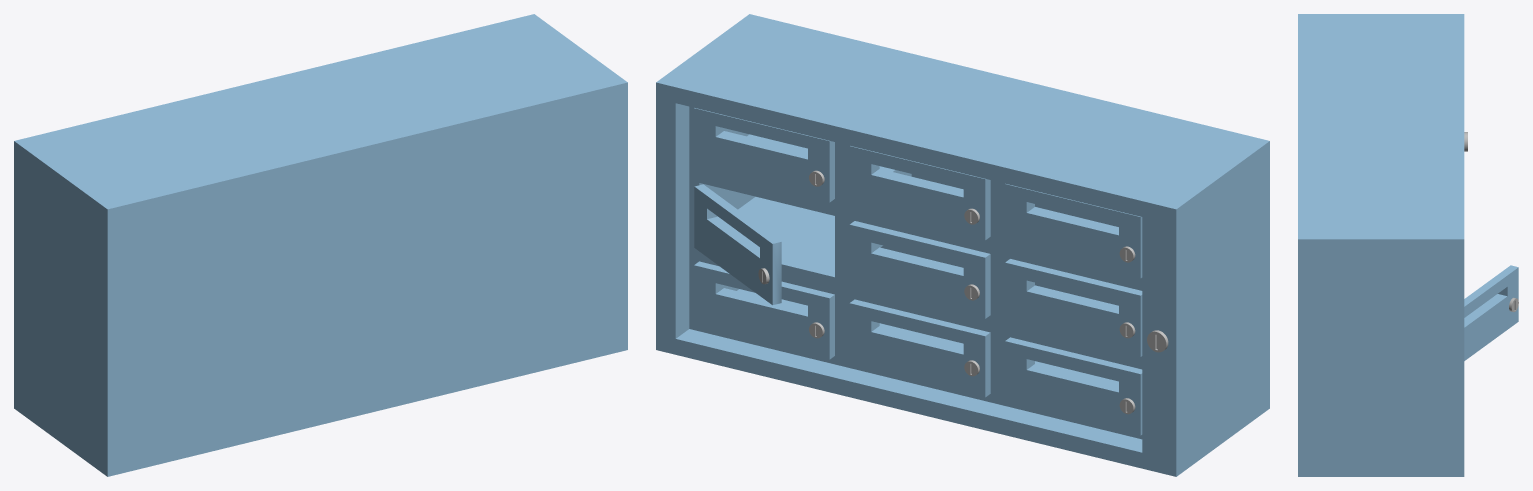
The model's file is structure_maison_complete_bal.fbx.
The picture shows the model from 3 angles, left to right: view 1: azimuth 30°, elevation 25°; view 2: azimuth 150°, elevation 25°; view 3: azimuth 270°, elevation 25°; orthographic projection. The views are drawn at different scales.
Parts seen in each view (by area): view 1: bal.002; view 2: bal.002; view 3: bal.002.
Boxes of the visible parts, x1,y1,x2,y2 form: bal.002: (14, 14, 627, 476); bal.002: (656, 14, 1269, 476); bal.002: (1298, 14, 1518, 476).
Bounding box in the file's own units: 4199 × 2063 × 1738.
